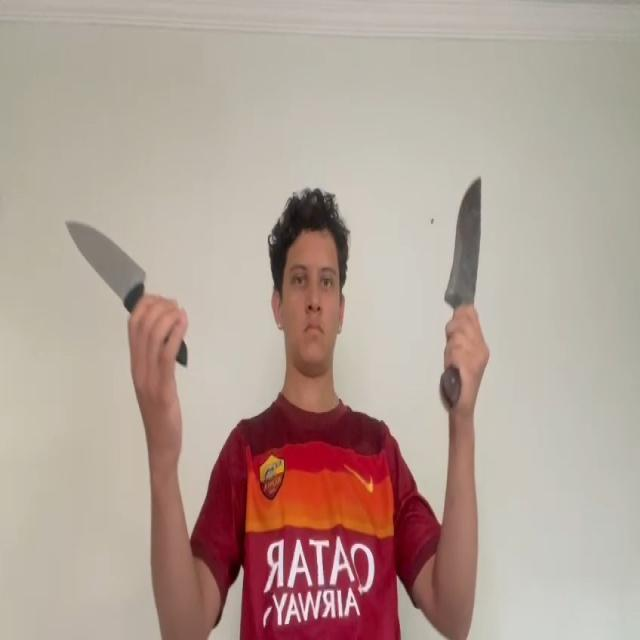knife: (66, 216, 147, 294), (446, 174, 483, 309)
